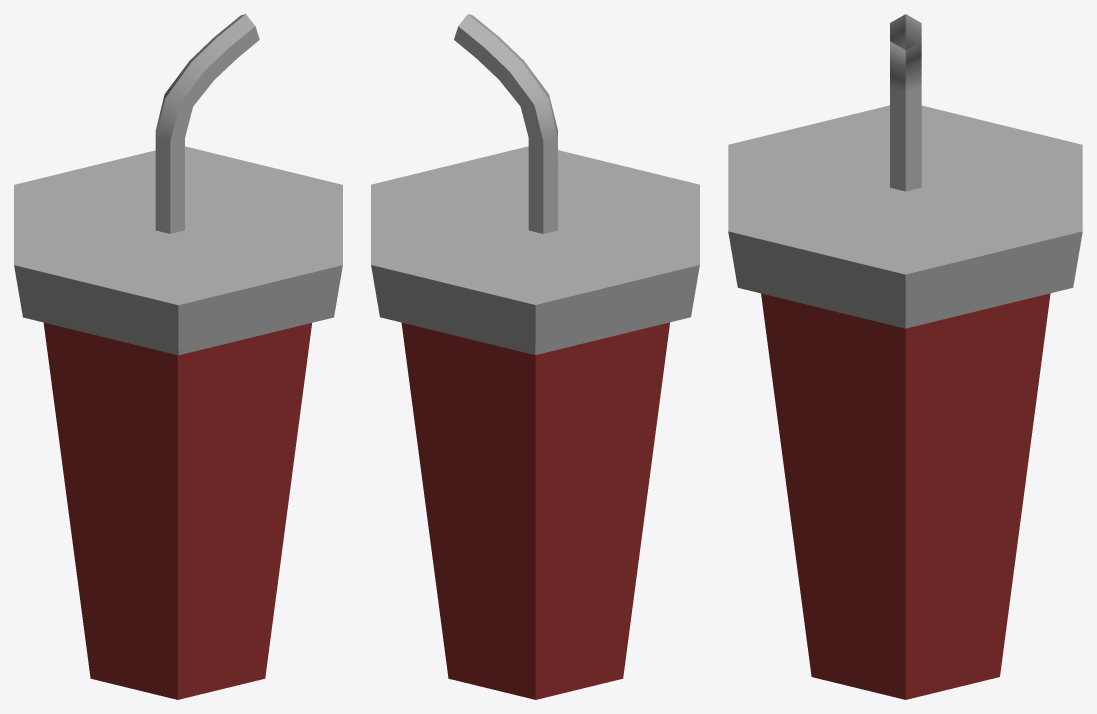
Rendered from sodatoo.fbx.
3 views of the same model, side by side, from view 1: azimuth 30°, elevation 25°; view 2: azimuth 150°, elevation 25°; view 3: azimuth 270°, elevation 25° (orthographic). The views are drawn at different scales.
Visible parts, largest first — view 1: sodato_41; view 2: sodato_41; view 3: sodato_41.
Part boxes in pixels (box(x1,y1,x2,y2)): sodato_41: box(14, 14, 342, 699); sodato_41: box(371, 14, 699, 699); sodato_41: box(728, 14, 1082, 699).
Size of what is drawn, in the model's own units: 144 by 124 by 262.
